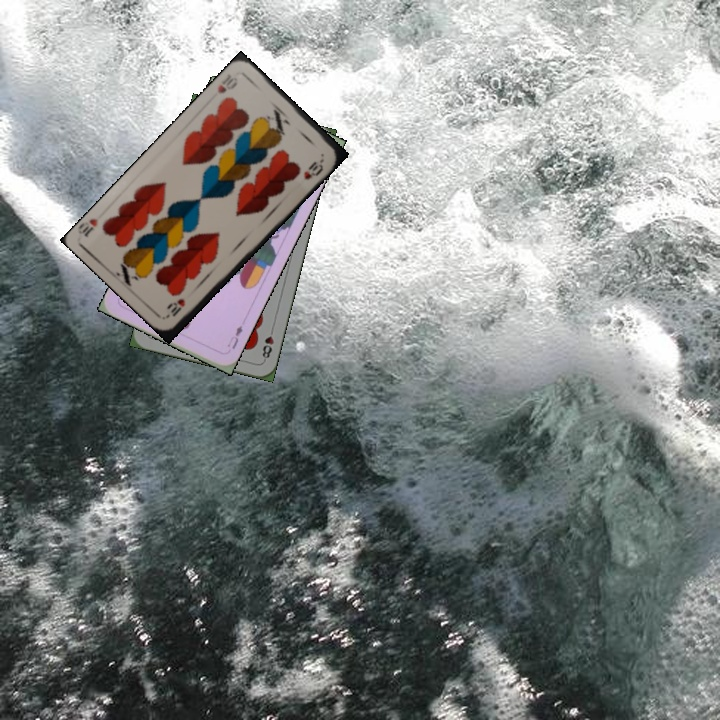EU: (223, 321, 245, 352)
H10: (213, 70, 240, 96), (163, 295, 188, 319)
H8: (258, 323, 276, 363)
